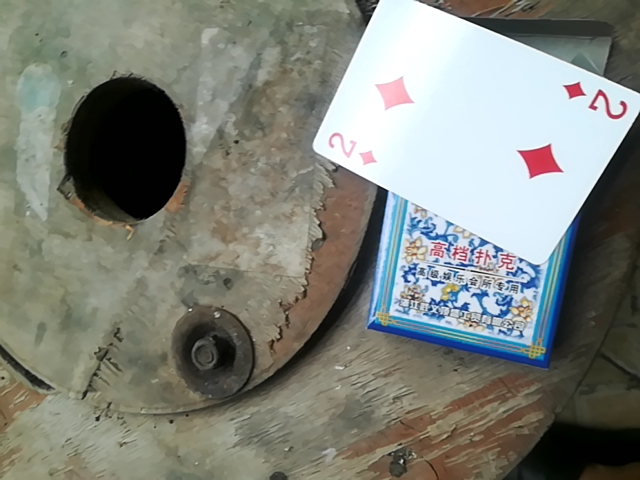fk 2: (303, 0, 636, 273)
